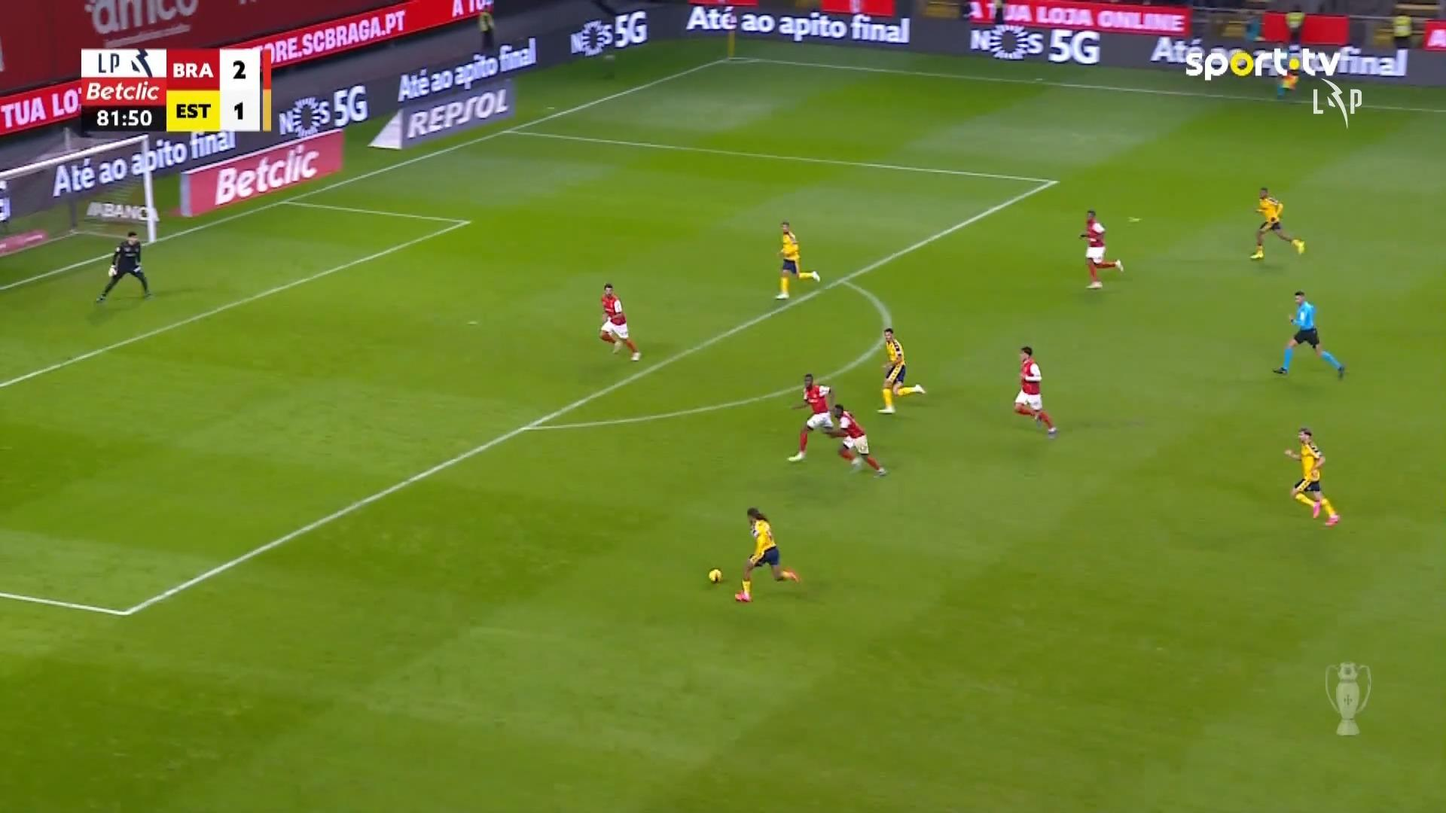ball: (708, 568, 721, 583), (599, 329, 613, 341)
goalkeeper: (94, 230, 152, 303)
player: (734, 506, 801, 602), (786, 373, 853, 461), (1283, 427, 1340, 526), (824, 403, 887, 477), (876, 327, 926, 413), (1012, 345, 1057, 438), (1249, 186, 1305, 260), (773, 220, 819, 299), (1078, 209, 1123, 288), (598, 282, 641, 361)
referee: (1272, 289, 1346, 379), (1276, 49, 1301, 99)
